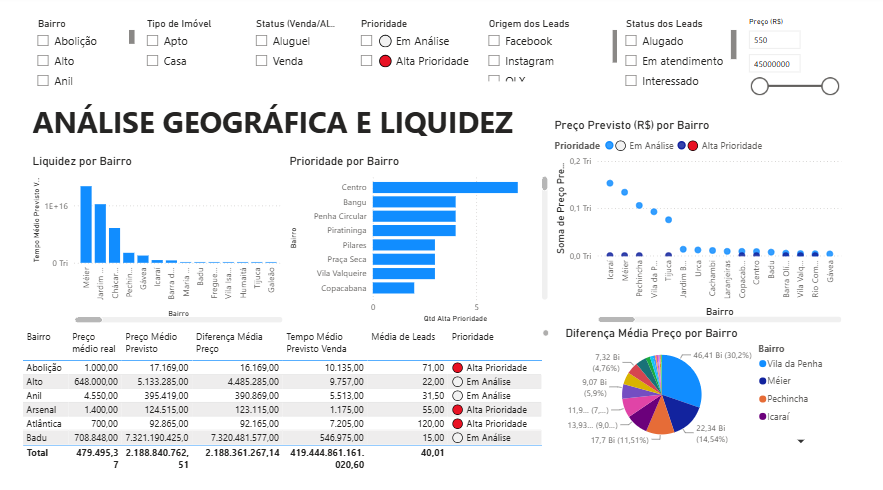

The page's visual inventory and layout, read from the dashboard file:
{"tool":"powerbi","page":{"name":"Página 1","canvas":[1280,720],"ordinal":0},"visuals":[{"type":"slicer","fields":{"Values":["dados_imoveis_com_previsoes_completos.Bairro"]},"box":[47.5,25.9,157,121],"z":0},{"type":"slicer","fields":{"Values":["dados_imoveis_com_previsoes_completos.Tipo de Imóvel"]},"box":[204.5,25.9,157,102.2],"z":1000},{"type":"slicer","fields":{"Values":["dados_imoveis_com_previsoes_completos.Status (Venda/Aluguel)"]},"box":[361.4,25.9,151.2,102.2],"z":2000},{"type":"slicer","fields":{"Values":["dados_imoveis_com_previsoes_completos.Prioridade"]},"box":[512.6,25.9,184.3,121],"z":3000},{"type":"slicer","fields":{"Values":["dados_imoveis_com_previsoes_completos.Origem dos Leads"]},"box":[697,25.9,204.5,102.2],"z":4000},{"type":"slicer","fields":{"Values":["dados_imoveis_com_previsoes_completos.Status dos Leads"]},"box":[894.2,25.9,177.1,121],"z":5000},{"type":"slicer","fields":{"Values":["dados_imoveis_com_previsoes_completos.Preço (R$)"]},"box":[1071.4,25.9,151.2,149.8],"z":6000},{"type":"scatterChart","title":"Preço Previsto (R$) por Bairro","fields":{"Series":["dados_imoveis_com_previsoes_completos.Prioridade"],"Y":["Sum(dados_imoveis_com_previsoes_completos.Preço Previsto (R$))"],"X":["dados_imoveis_com_previsoes_completos.Bairro"]},"box":[799.2,175.7,423.4,299.5],"z":7000},{"type":"clusteredColumnChart","title":"Liquidez por Bairro","fields":{"Category":["dados_imoveis_com_previsoes_completos.Bairro"],"Y":["dados_imoveis_com_previsoes_completos.Tempo Médio Previsto Venda"]},"box":[47.5,227.5,370.1,247.7],"z":8000},{"type":"clusteredBarChart","title":"Prioridade por Bairro","fields":{"Category":["dados_imoveis_com_previsoes_completos.Bairro"],"Y":["dados_imoveis_com_previsoes_completos.Qtd Alta Prioridade"]},"box":[417.6,227.5,381.6,247.7],"z":9000},{"type":"pieChart","fields":{"Category":["dados_imoveis_com_previsoes_completos.Bairro"],"Y":["dados_imoveis_com_previsoes_completos.Diferença Média Preço"]},"box":[815,475.2,407.5,178.6],"z":10000},{"type":"tableEx","fields":{"Values":["dados_imoveis_com_previsoes_completos.Bairro","dados_imoveis_com_previsoes_completos.Preço médio real","dados_imoveis_com_previsoes_completos.Preço Médio Previsto","dados_imoveis_com_previsoes_completos.Diferença Média Preço","dados_imoveis_com_previsoes_completos.Tempo Médio Previsto Venda","dados_imoveis_com_previsoes_completos.Média de Leads","dados_imoveis_com_previsoes_completos.Prioridade"]},"box":[33.1,475.2,767.5,213.1],"z":11000},{"type":"textbox","box":[47.5,146.9,751.7,80.6],"z":12000}]}

Visuals, with their boxes in screenshot pixels (x1, y1, x2, y2), scaled from the page's 1280x720 canvas onto the 883x490 screenshot:
slicer - dados_imoveis_com_previsoes_completos.Bairro: [x1=33, y1=18, x2=141, y2=100]
slicer - dados_imoveis_com_previsoes_completos.Tipo de Imóvel: [x1=141, y1=18, x2=249, y2=87]
slicer - dados_imoveis_com_previsoes_completos.Status (Venda/Aluguel): [x1=249, y1=18, x2=354, y2=87]
slicer - dados_imoveis_com_previsoes_completos.Prioridade: [x1=354, y1=18, x2=481, y2=100]
slicer - dados_imoveis_com_previsoes_completos.Origem dos Leads: [x1=481, y1=18, x2=622, y2=87]
slicer - dados_imoveis_com_previsoes_completos.Status dos Leads: [x1=617, y1=18, x2=739, y2=100]
slicer - dados_imoveis_com_previsoes_completos.Preço (R$): [x1=739, y1=18, x2=843, y2=120]
"Preço Previsto (R$) por Bairro" scatterChart: [x1=551, y1=120, x2=843, y2=323]
"Liquidez por Bairro" clusteredColumnChart: [x1=33, y1=155, x2=288, y2=323]
"Prioridade por Bairro" clusteredBarChart: [x1=288, y1=155, x2=551, y2=323]
pieChart - dados_imoveis_com_previsoes_completos.Bairro x dados_imoveis_com_previsoes_completos.Diferença Média Preço: [x1=562, y1=323, x2=843, y2=445]
tableEx - dados_imoveis_com_previsoes_completos.Bairro x dados_imoveis_com_previsoes_completos.Preço médio real: [x1=23, y1=323, x2=552, y2=468]
textbox: [x1=33, y1=100, x2=551, y2=155]
